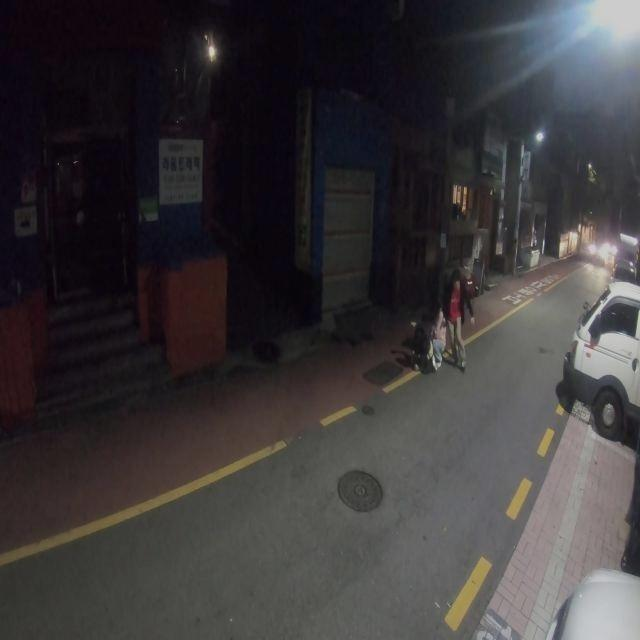fight: (402, 266, 480, 374)
